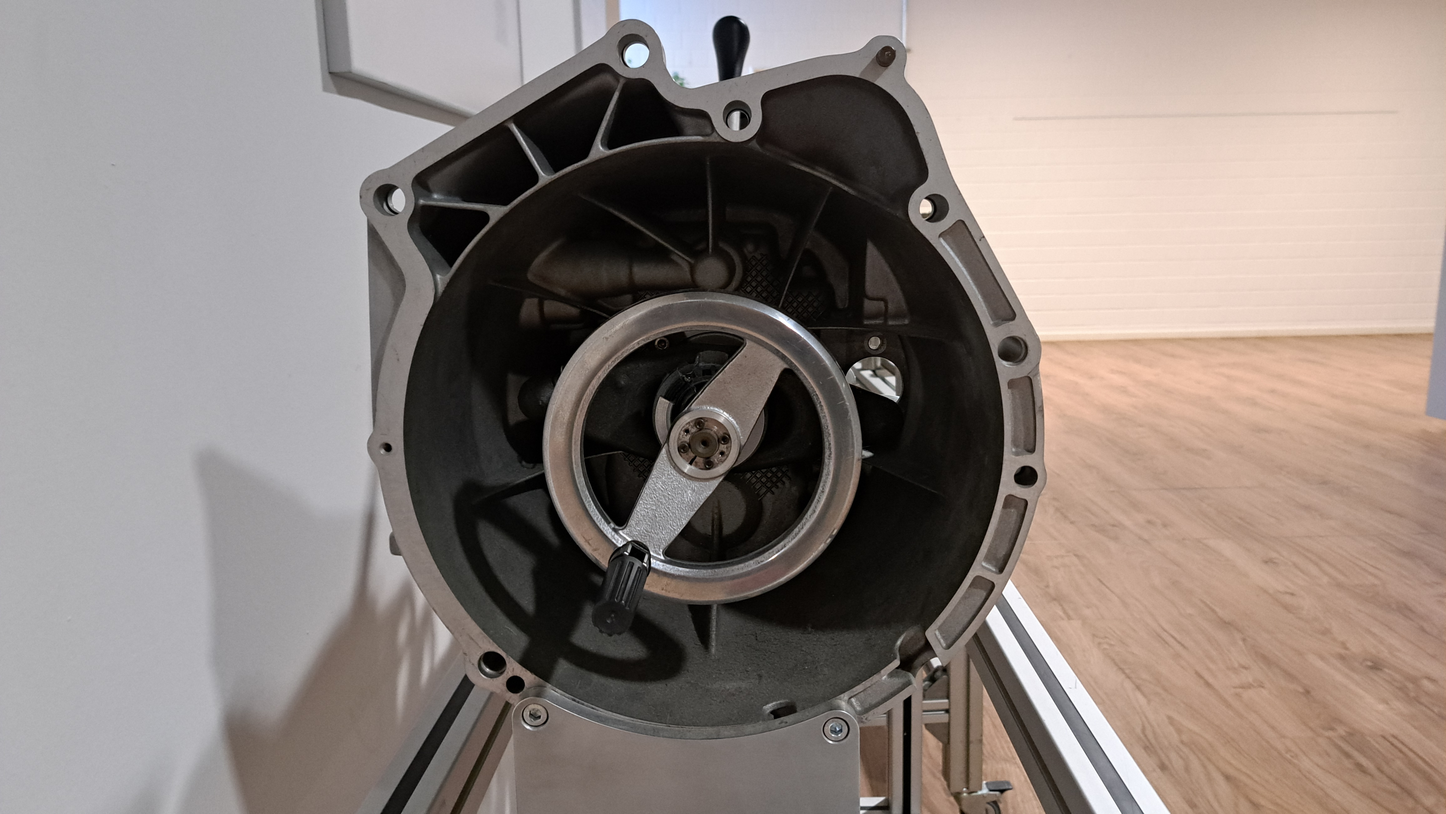screw: (521, 704, 548, 727), (823, 718, 848, 742), (678, 441, 689, 453), (694, 418, 705, 430), (703, 458, 714, 469), (719, 434, 729, 445)
